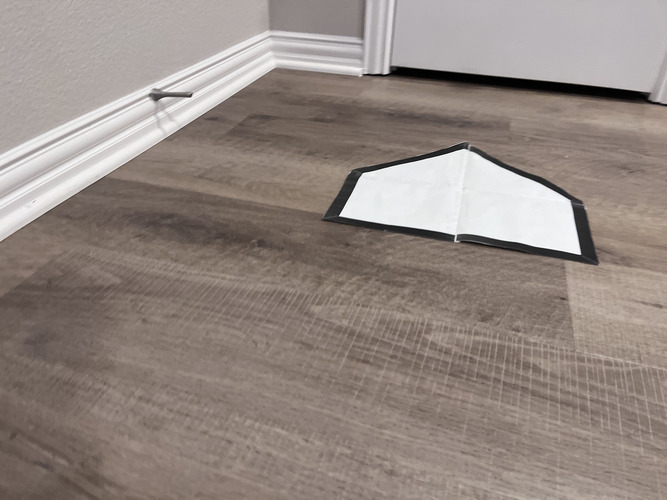homeplate: (321, 140, 600, 265)
